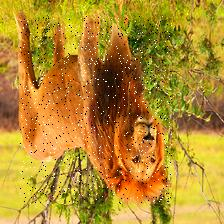Lion: (19, 15, 171, 203)
